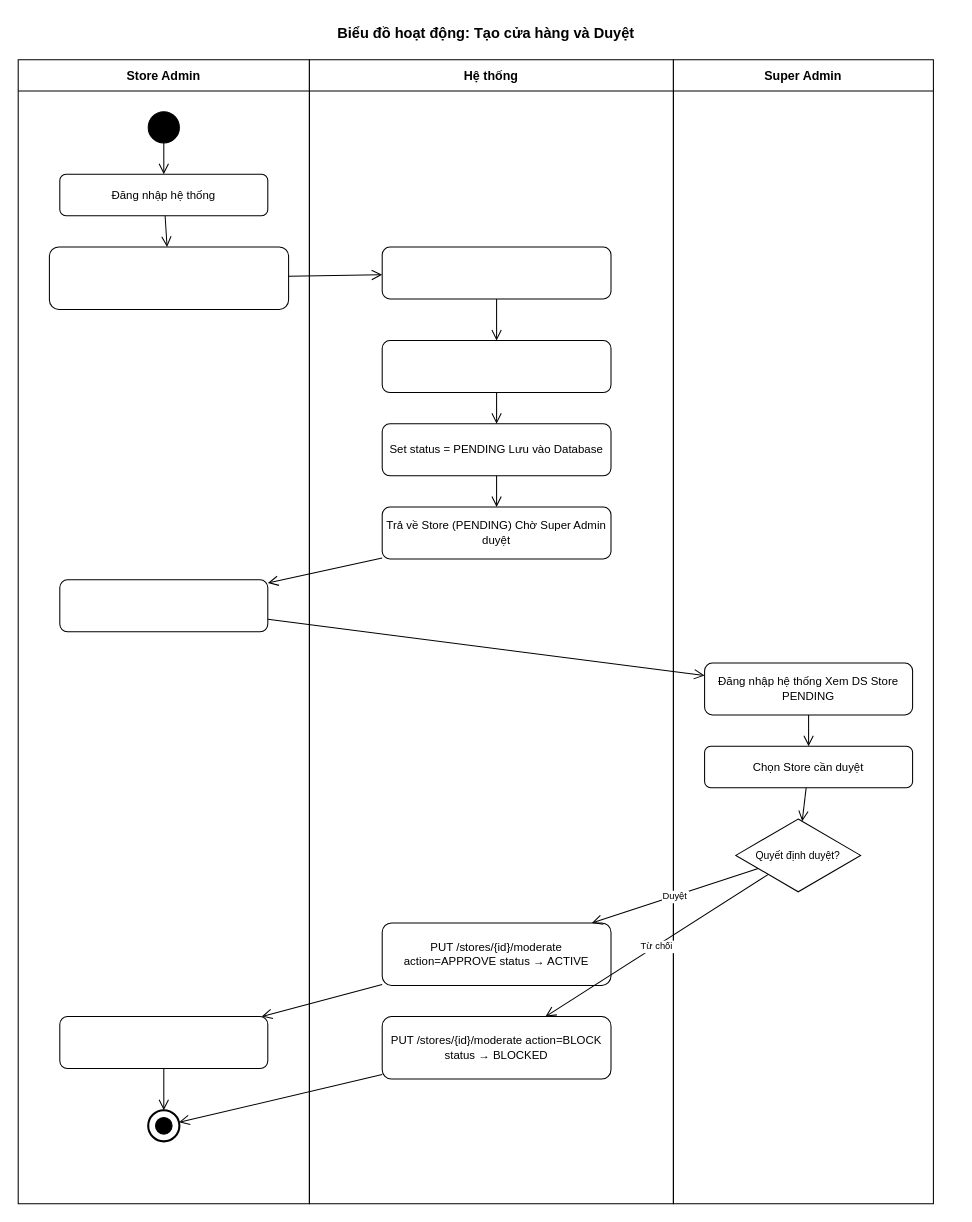
The diagram is 972 pixels wide and 1222 high, and some of its shapes have lost their labels. Here are the shapes that lost their labels. From the top down, the centre of each, then its label:
pixel 168 277: Nhập thông tin cửa hàng: brand, description, storeType, contact
pixel 496 272: POST /api/stores Gửi dữ liệu tạo Store
pixel 496 366: Lấy currentUser từ JWT Tạo Store(storeAdmin=user)
pixel 163 605: Hiển thị thông báo: Cửa hàng đang chờ duyệt
pixel 163 1042: Store hoạt động Có thể tạo Branch, Product
